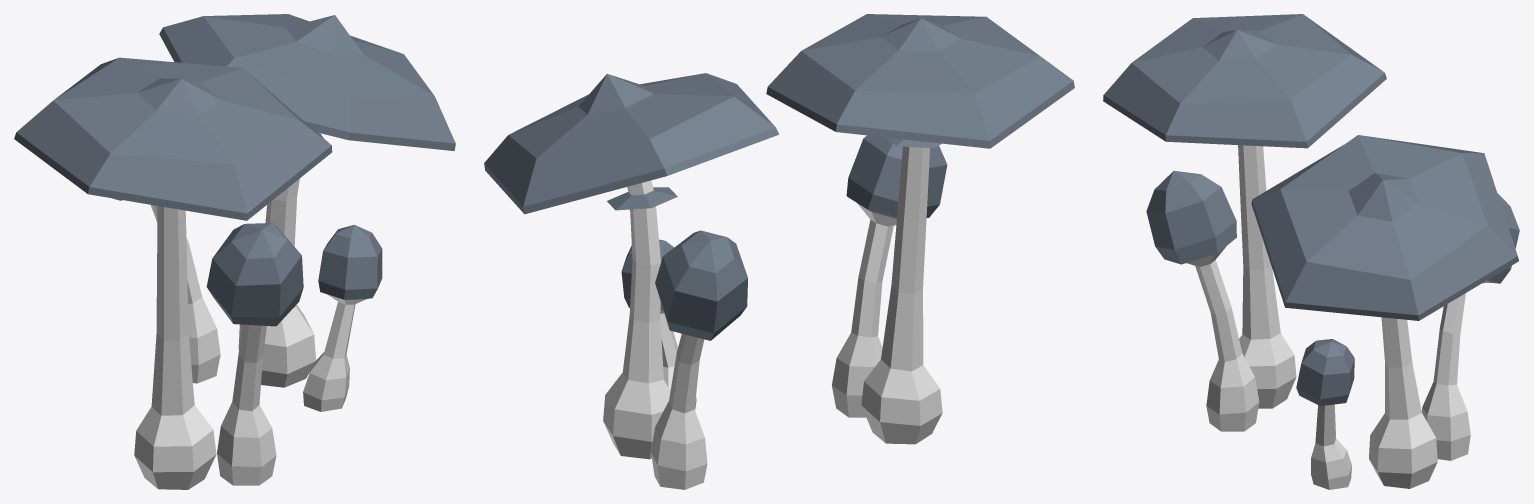
Rendered from umbrella_mushroom.fbx.
3 views of the same model, side by side, from view 1: azimuth 30°, elevation 25°; view 2: azimuth 150°, elevation 25°; view 3: azimuth 270°, elevation 25° (orthographic). The views are drawn at different scales.
Parts seen in each view (by area): view 1: umbrella_mushroom; view 2: umbrella_mushroom; view 3: umbrella_mushroom.
Boxes of the visible parts, x1,y1,x2,y2 form: umbrella_mushroom: (14,14,455,489); umbrella_mushroom: (484,14,1074,489); umbrella_mushroom: (1103,14,1519,489).
Size of the model in its own units: 47.38 by 40.08 by 41.37.
